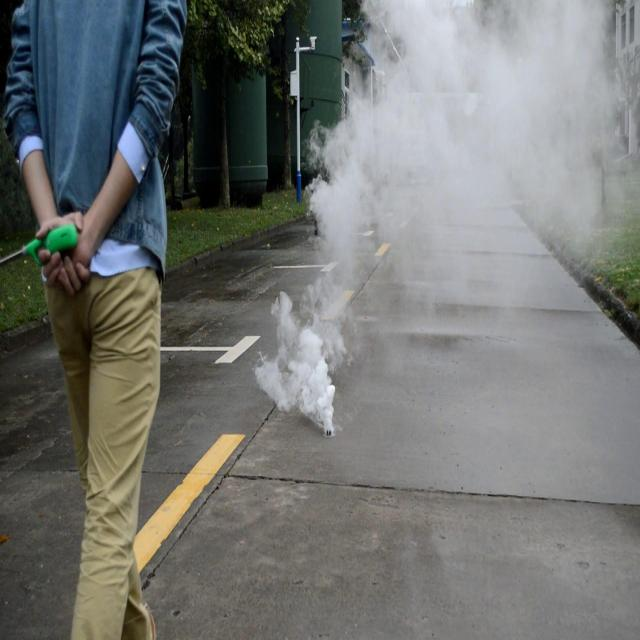smoke: (256, 6, 622, 434)
